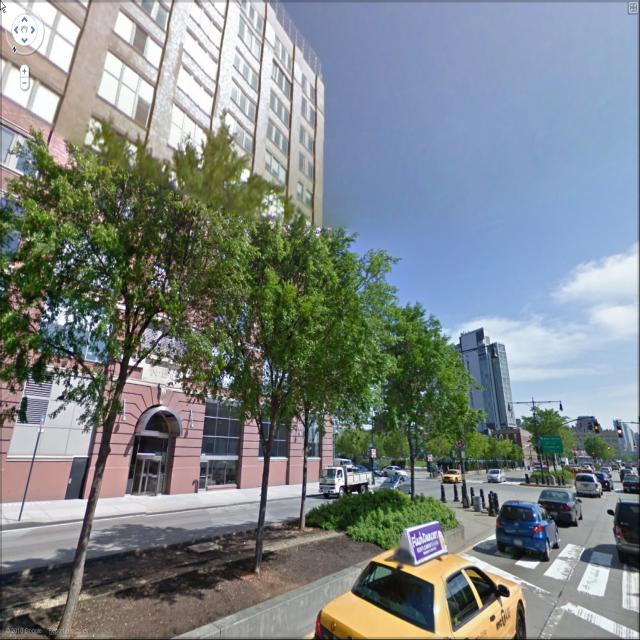b_1: (468, 330, 517, 431), (612, 416, 640, 468)
b_2: (6, 1, 348, 477), (434, 321, 509, 448), (484, 424, 548, 476), (577, 412, 623, 465)
